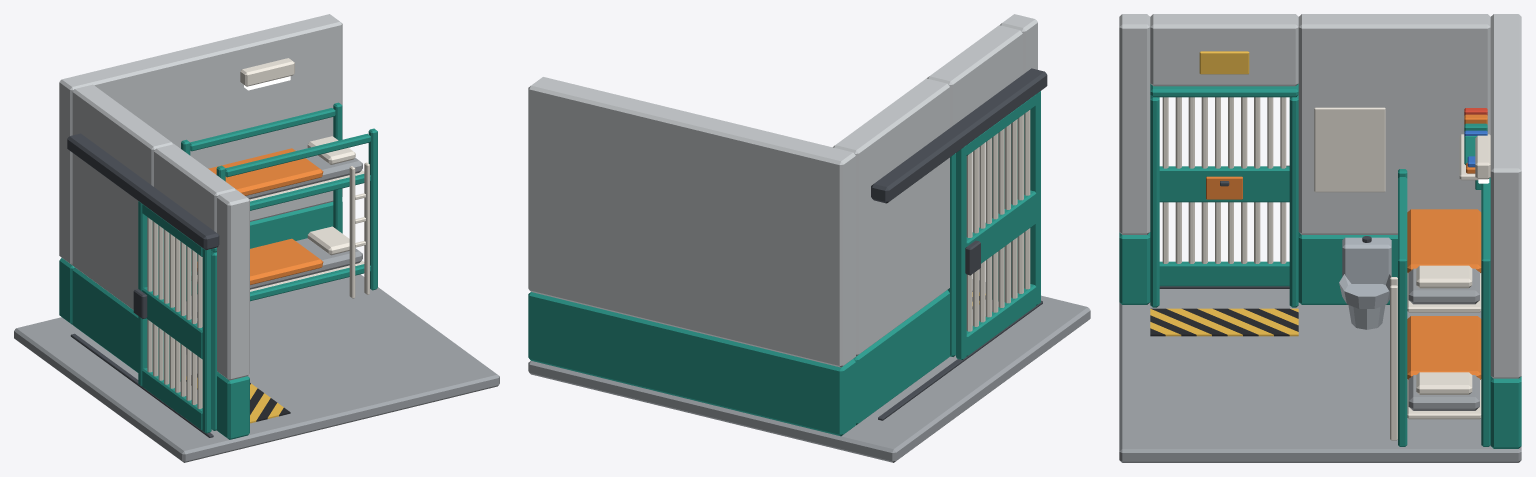
The model's file is low-poly-prison-cell.glb.
3 views of the same model, side by side, from view 1: azimuth 30°, elevation 25°; view 2: azimuth 150°, elevation 25°; view 3: azimuth 270°, elevation 25° (orthographic). The views are drawn at different scales.
Visible parts, largest first — view 1: Cell_Shell, BunkBed, CellDoor, WallLamp, HazardStripes; view 2: Cell_Shell, CellDoor; view 3: Cell_Shell, BunkBed, CellDoor, Poster_Blank, HazardStripes, Toilet, Shelf_Books, FoodHatch, WallLamp.
Part boxes in pixels (<box>): Cell_Shell: <box>14,14,499,462</box>; BunkBed: <box>181,102,377,301</box>; CellDoor: <box>133,201,211,433</box>; WallLamp: <box>240,58,294,90</box>; HazardStripes: <box>186,374,290,423</box>; Cell_Shell: <box>528,14,1090,462</box>; CellDoor: <box>956,91,1040,359</box>; Cell_Shell: <box>1119,14,1521,462</box>; BunkBed: <box>1390,169,1490,446</box>; CellDoor: <box>1159,97,1289,286</box>; Poster_Blank: <box>1314,107,1385,192</box>; HazardStripes: <box>1150,308,1298,336</box>; Toilet: <box>1339,236,1391,329</box>; Shelf_Books: <box>1459,108,1490,189</box>; FoodHatch: <box>1206,176,1242,199</box>; WallLamp: <box>1475,135,1490,183</box>.
Bounding box in the file's own units: 14 × 10.5 × 13.
